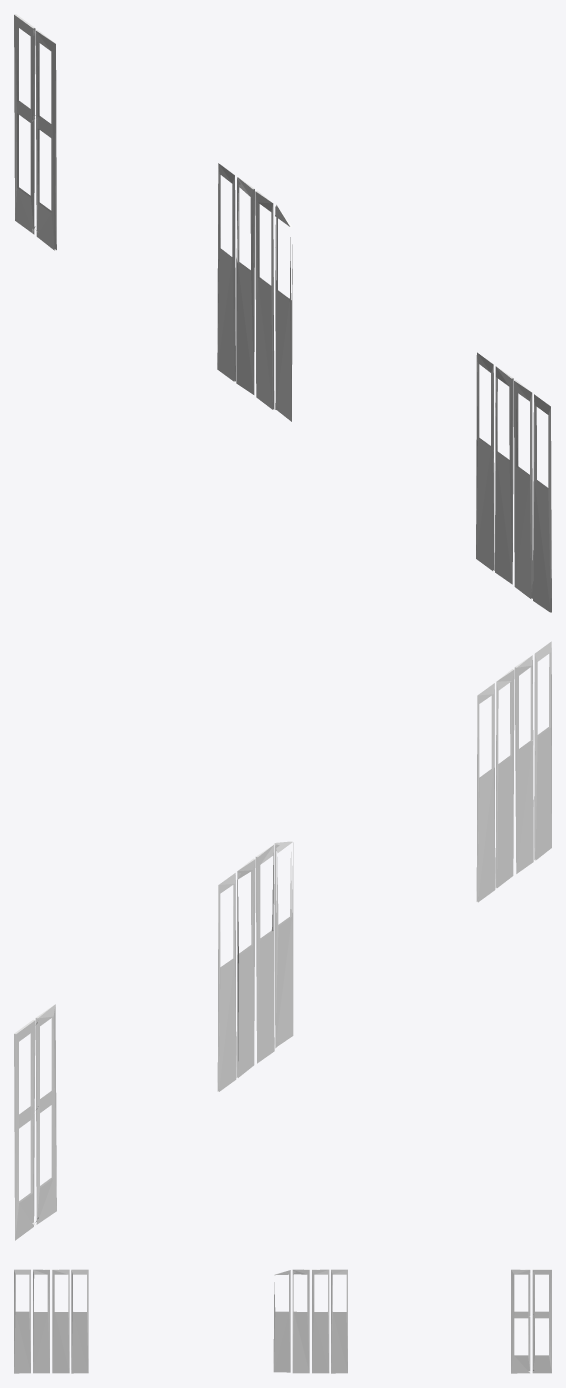
3 renders of one model, top to bottom at view 1: azimuth 30°, elevation 25°; view 2: azimuth 150°, elevation 25°; view 3: azimuth 270°, elevation 25°, orthographic. The views are drawn at different scales.
Size of the model in its own units: 0.0326 by 2.04 by 9.61.
1 material, 1 textured.
